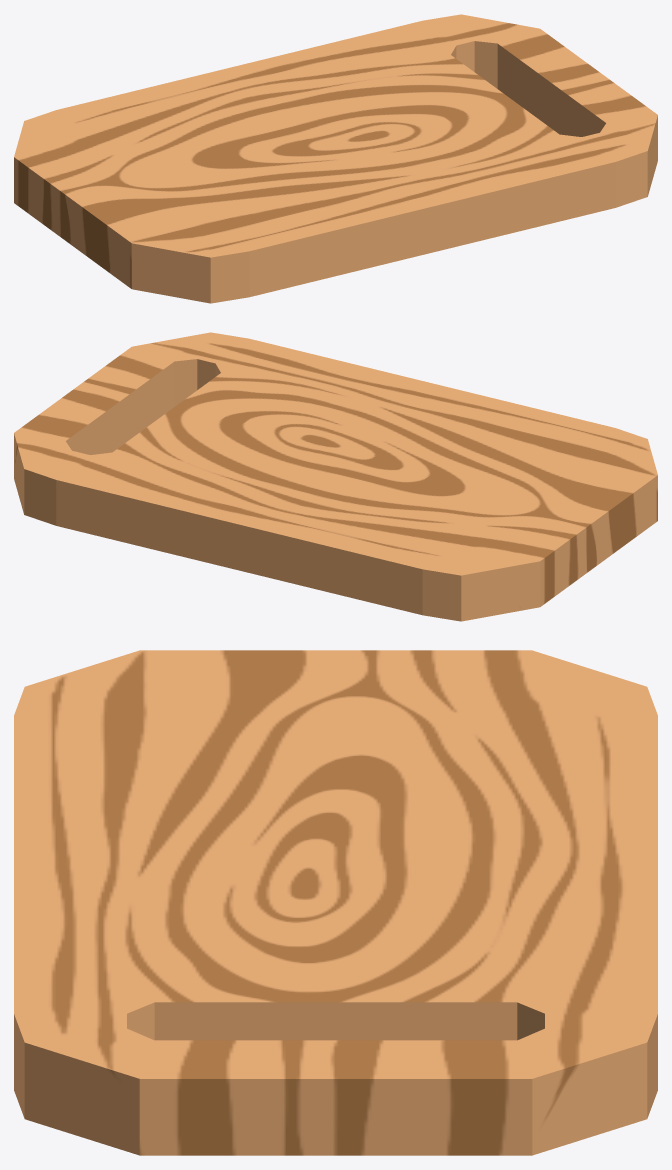
File: cuttingBoard1_PLY.fbx
The picture shows the model from 3 angles, top to bottom: view 1: azimuth 30°, elevation 25°; view 2: azimuth 150°, elevation 25°; view 3: azimuth 270°, elevation 25°; orthographic projection. The views are drawn at different scales.
Visible parts, largest first — view 1: cuttingBoard1_PLY; view 2: cuttingBoard1_PLY; view 3: cuttingBoard1_PLY.
Part boxes in pixels (<box>): cuttingBoard1_PLY: <box>14,14,657,303</box>; cuttingBoard1_PLY: <box>14,332,657,621</box>; cuttingBoard1_PLY: <box>14,650,657,1155</box>.
Size of the model in its own units: 2.16 by 0.1802 by 1.37.
